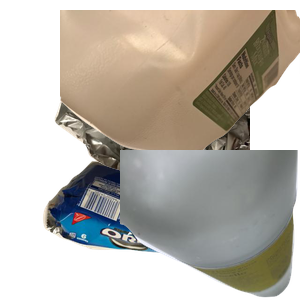glass: (120, 150, 300, 300)
metal: (52, 10, 292, 190)
plastic: (60, 10, 300, 160)
trash: (40, 158, 245, 300)
